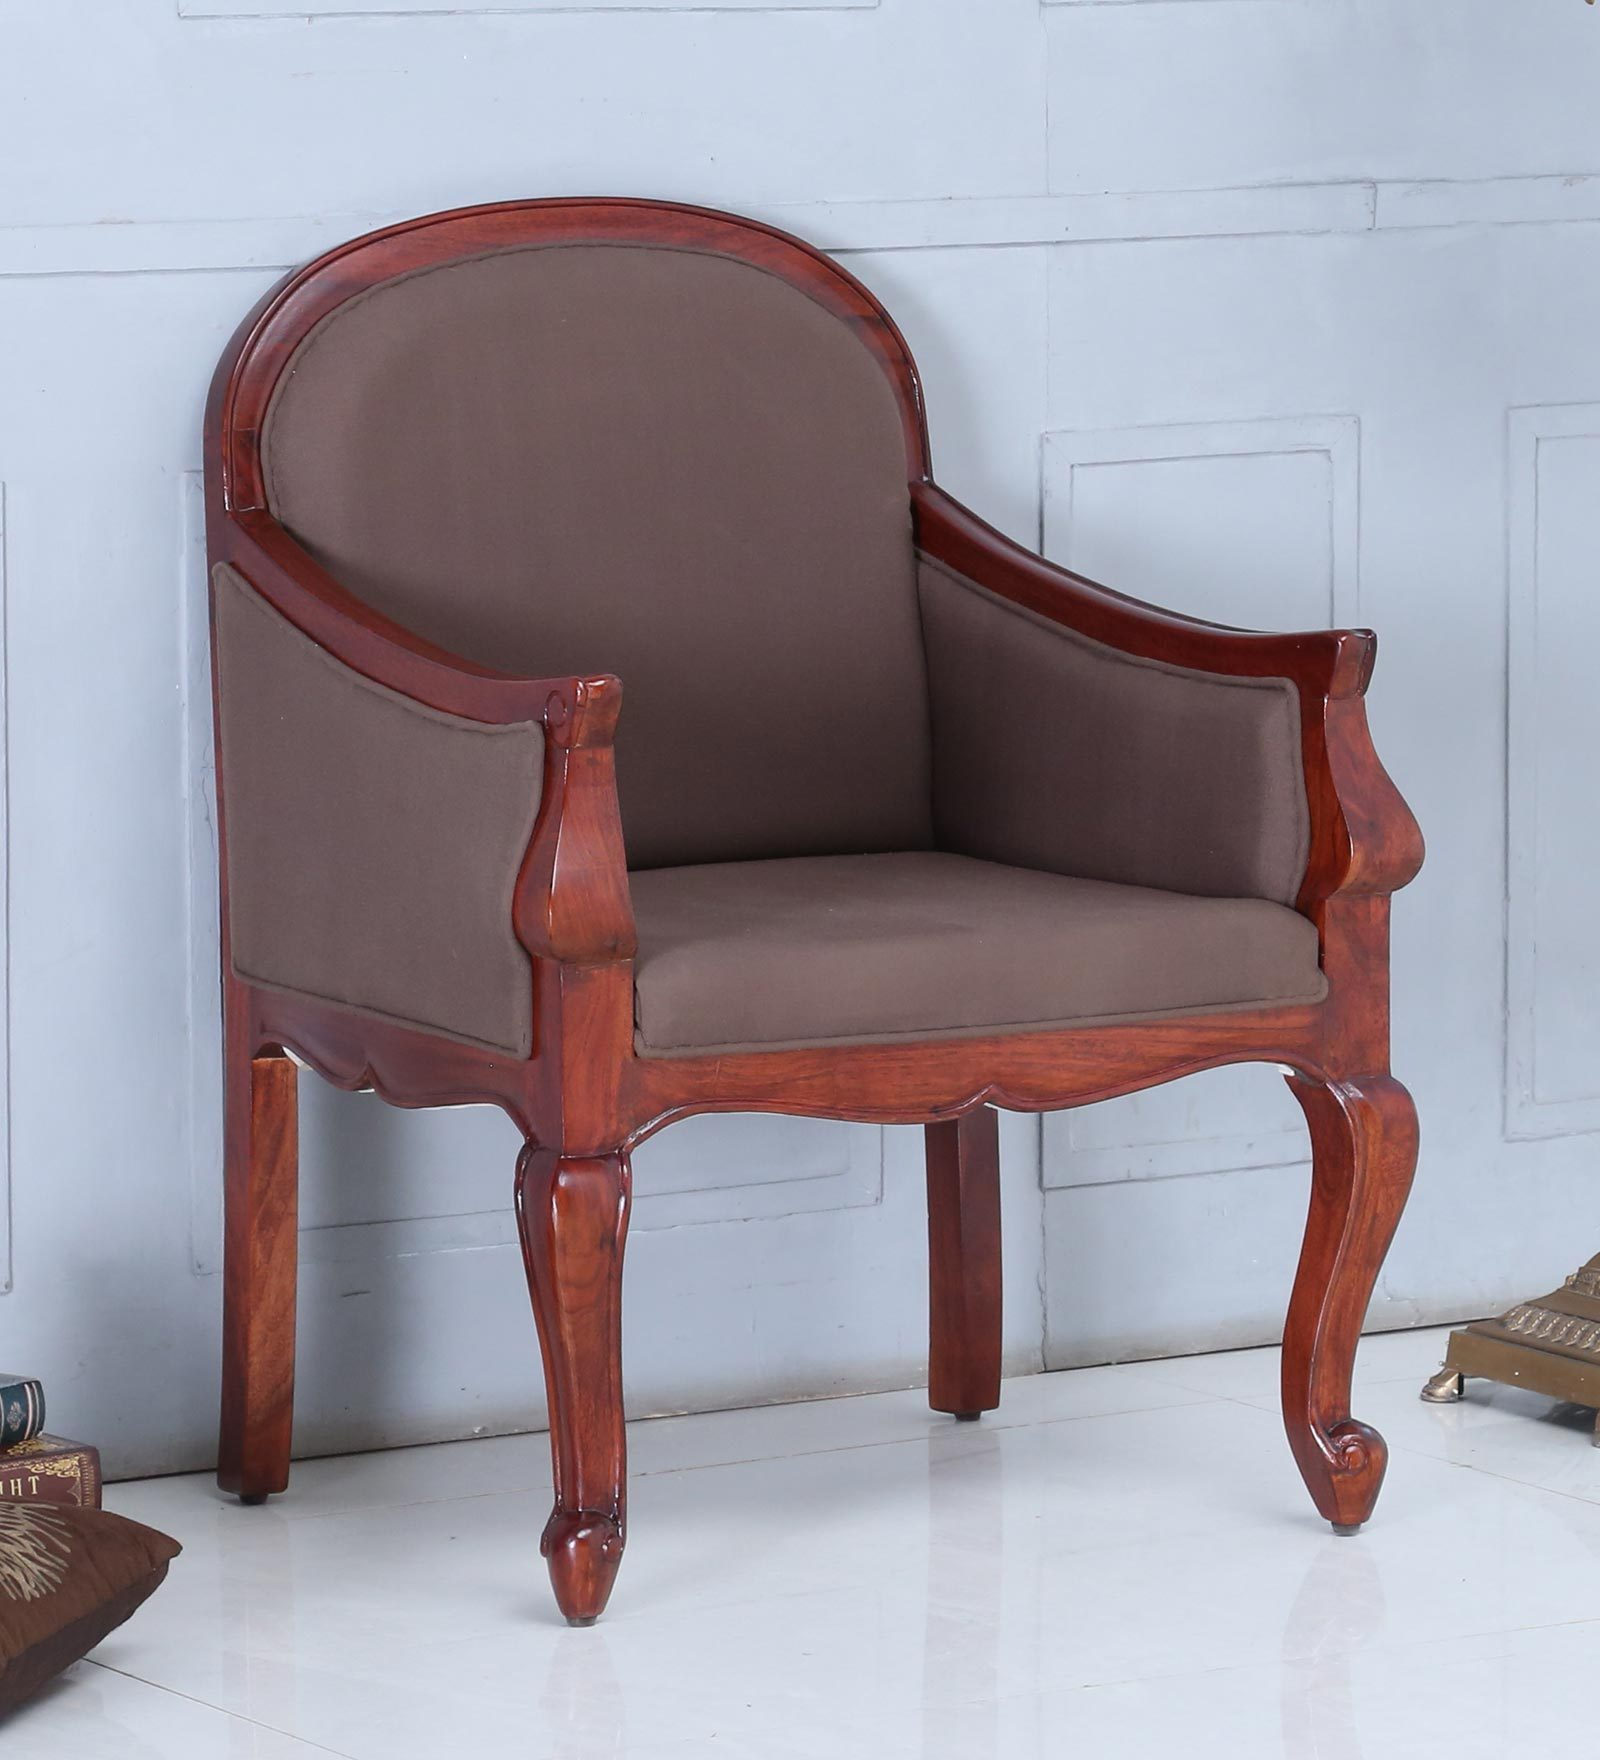Clifford Arm Chair in Honey Oak Finish by Amberville: (149, 163, 1433, 1642)
